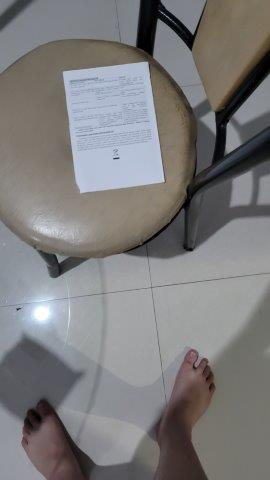kertas: (63, 60, 166, 194)
